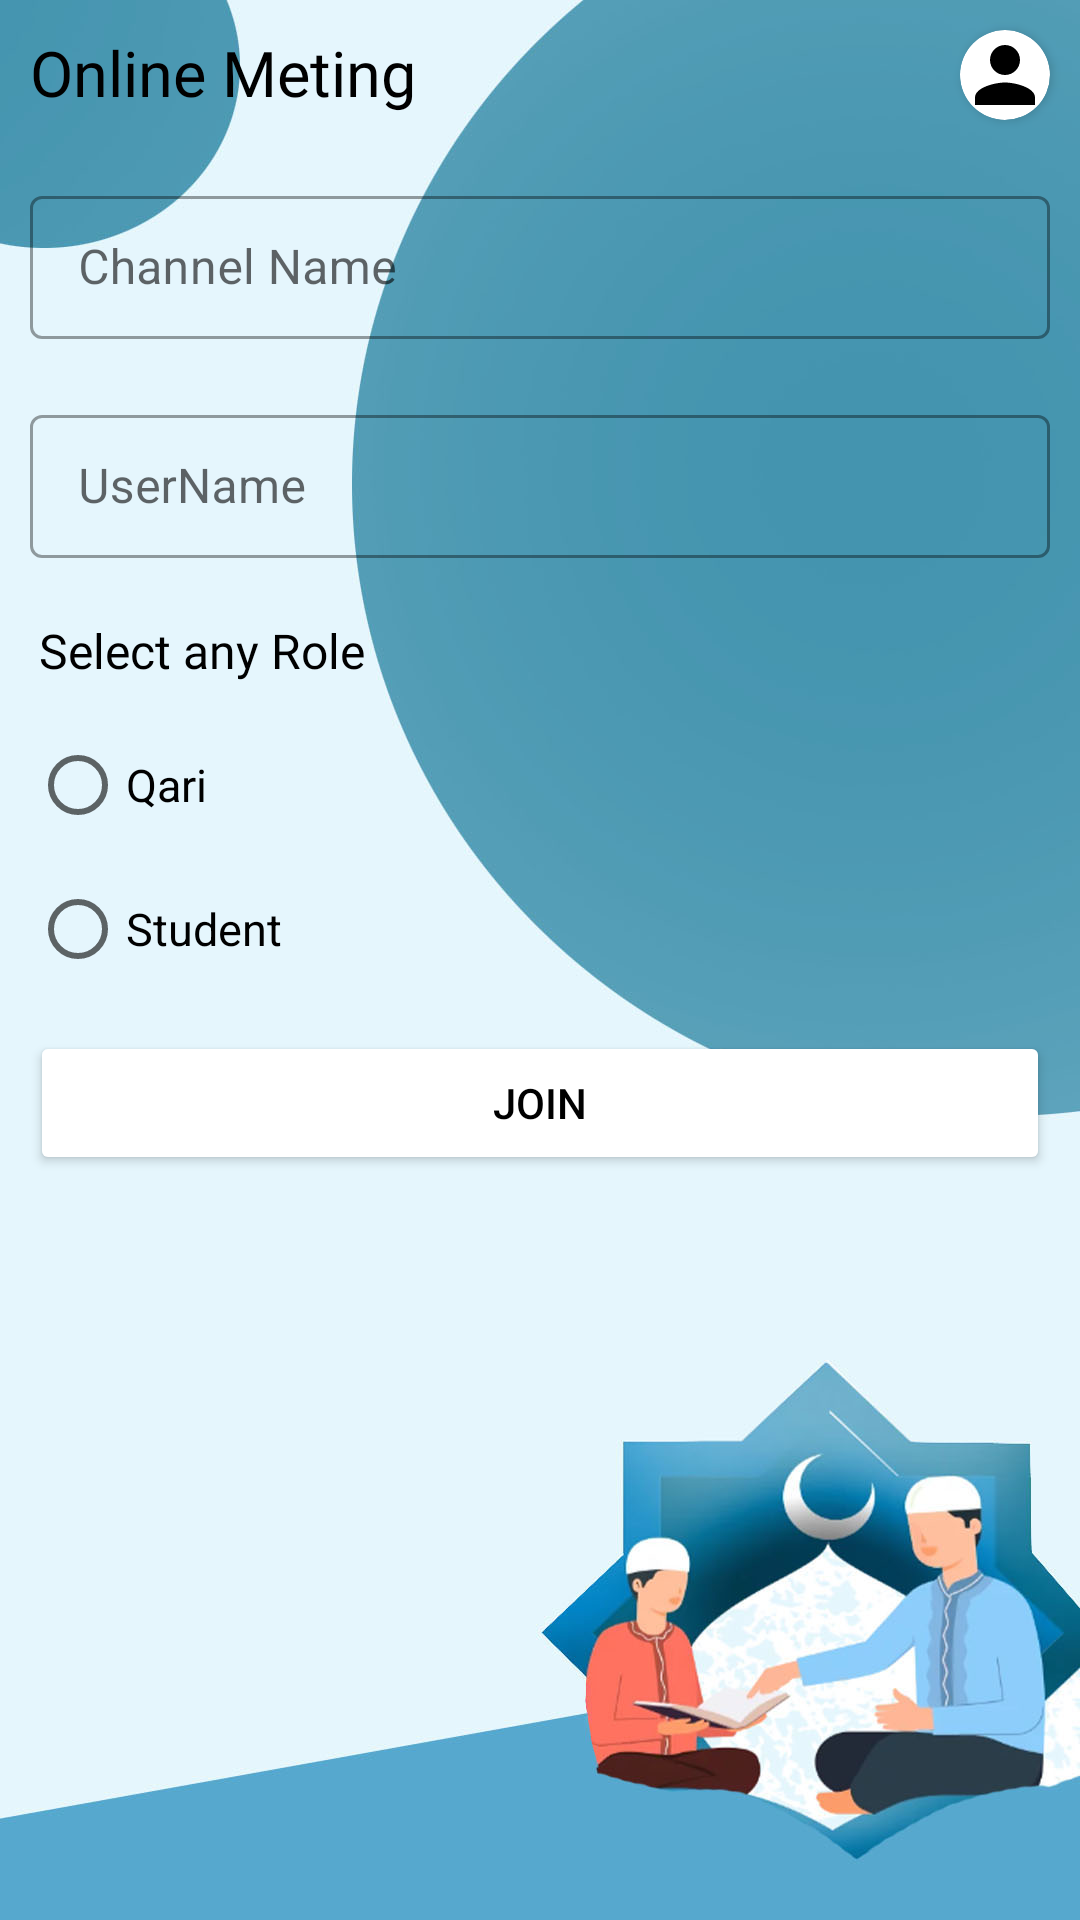

Point at icon controls on the screen. Image size 1080 x 1920, points as point (x, y).
person: point (1005, 75)
